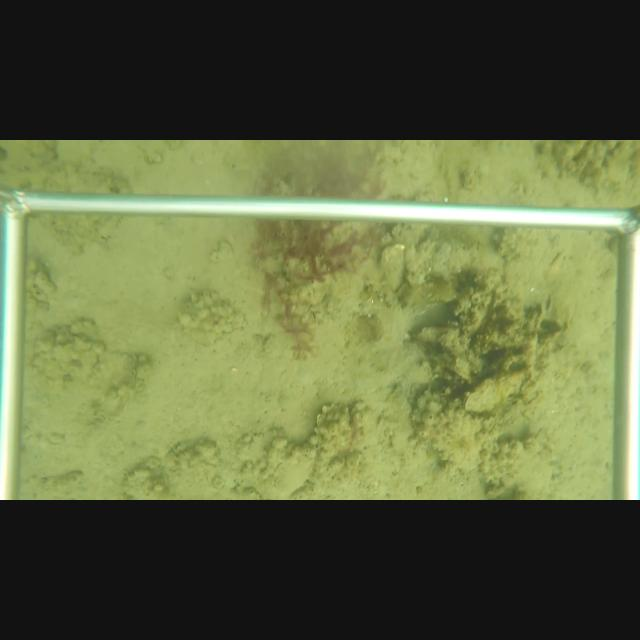Oyster-Closed: (244, 442, 319, 498), (460, 365, 528, 415)
Oyster-Open: (527, 300, 548, 335)
